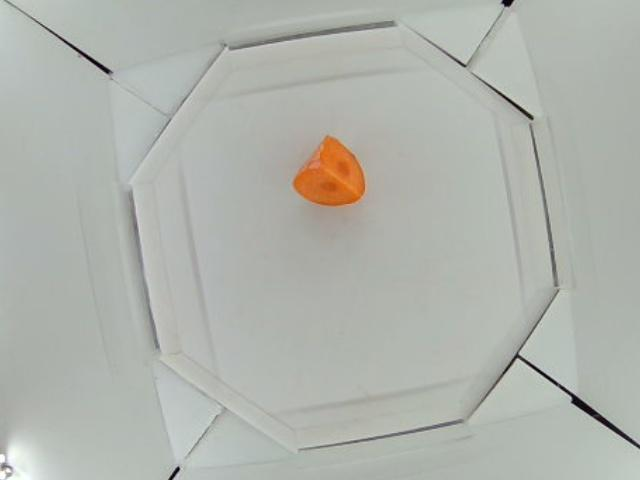Carrot: (294, 136, 367, 204)
